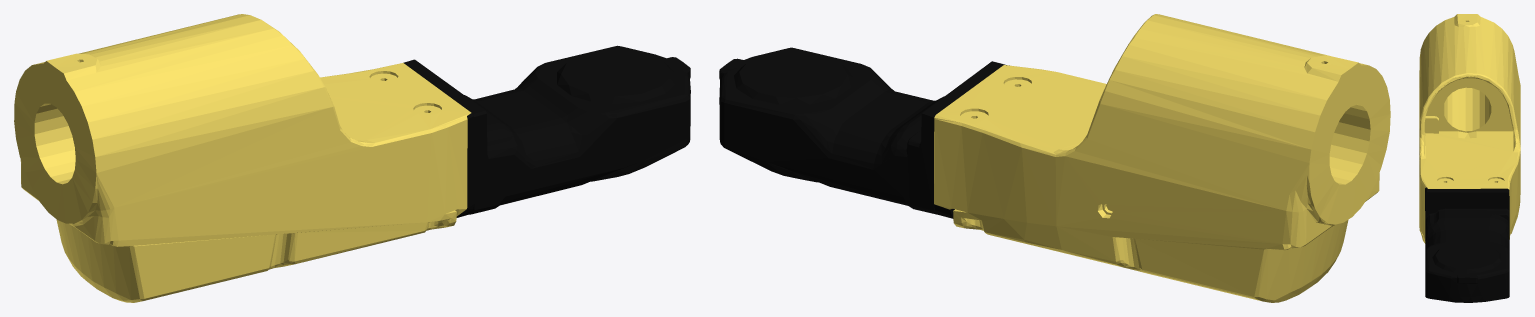
The picture shows the model from 3 angles, left to right: view 1: azimuth 30°, elevation 25°; view 2: azimuth 150°, elevation 25°; view 3: azimuth 270°, elevation 25°; orthographic projection. The views are drawn at different scales.
Visible parts, largest first — view 1: /Link4/Link4-mesh/0, /Link4/Link4-mesh/1; view 2: /Link4/Link4-mesh/0, /Link4/Link4-mesh/1; view 3: /Link4/Link4-mesh/0, /Link4/Link4-mesh/1.
Boxes of the visible parts, x1,y1,x2,y2 form: /Link4/Link4-mesh/0: (14, 14, 471, 302); /Link4/Link4-mesh/1: (403, 45, 690, 217); /Link4/Link4-mesh/0: (934, 14, 1390, 302); /Link4/Link4-mesh/1: (719, 47, 1009, 218); /Link4/Link4-mesh/0: (1419, 14, 1520, 243); /Link4/Link4-mesh/1: (1425, 187, 1509, 302).
Bounding box in the file's own units: 0.4978 × 0.1739 × 0.12.
